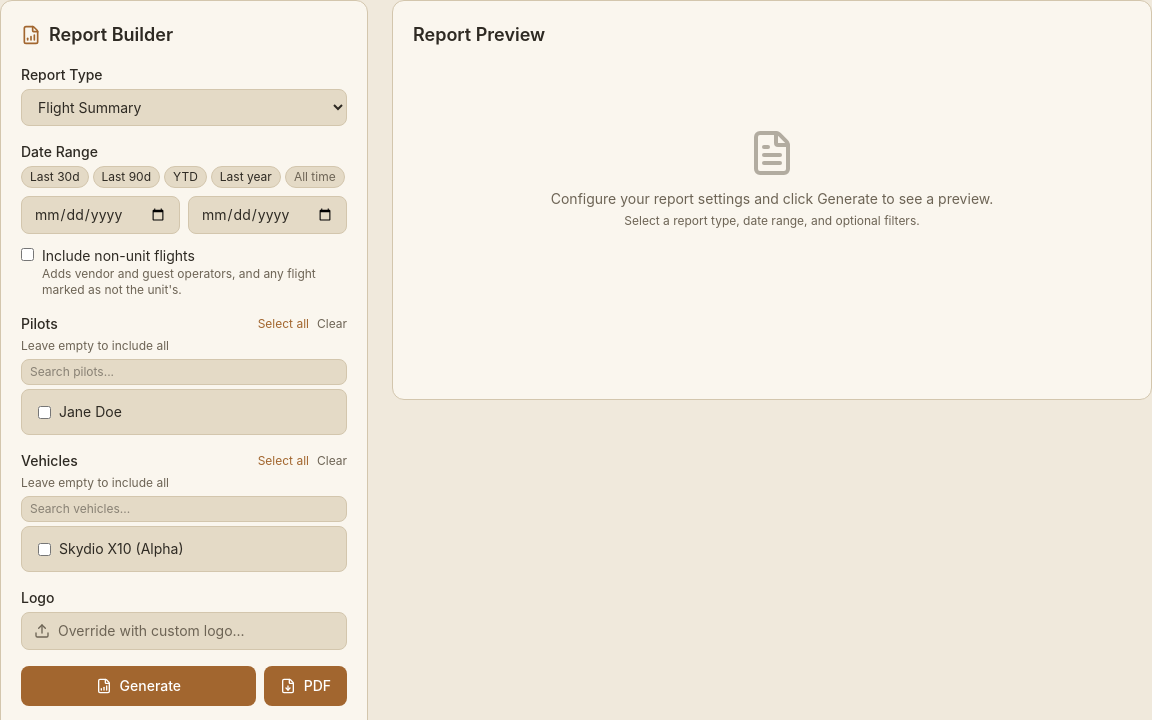
Test case: ReportsPage › shows the period an annual report states when no dates were chosen
This screenshot has width=1152, height=720.
Expected: the heading "Report Builder" is shown, [21, 24, 173, 45]
Select "Annual Unit Report" in the dropdown labelled "Report Type": (184, 108) [21, 89, 347, 126]
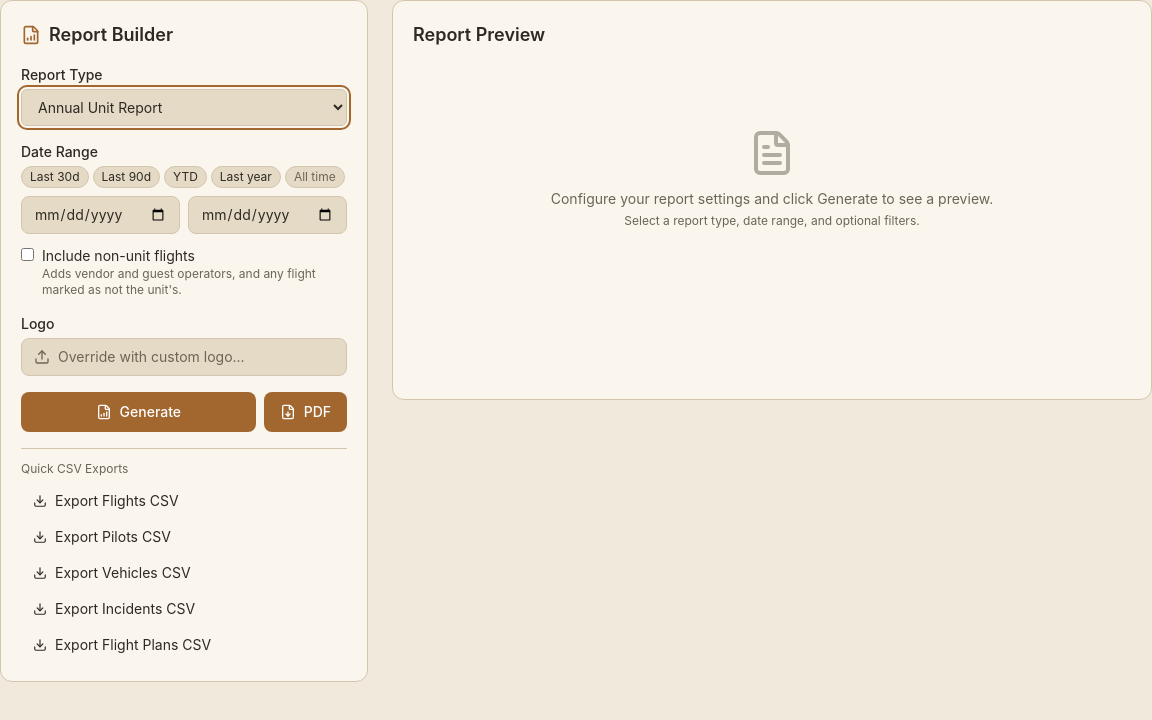
Click the button "Generate": click(138, 412) [21, 392, 256, 432]
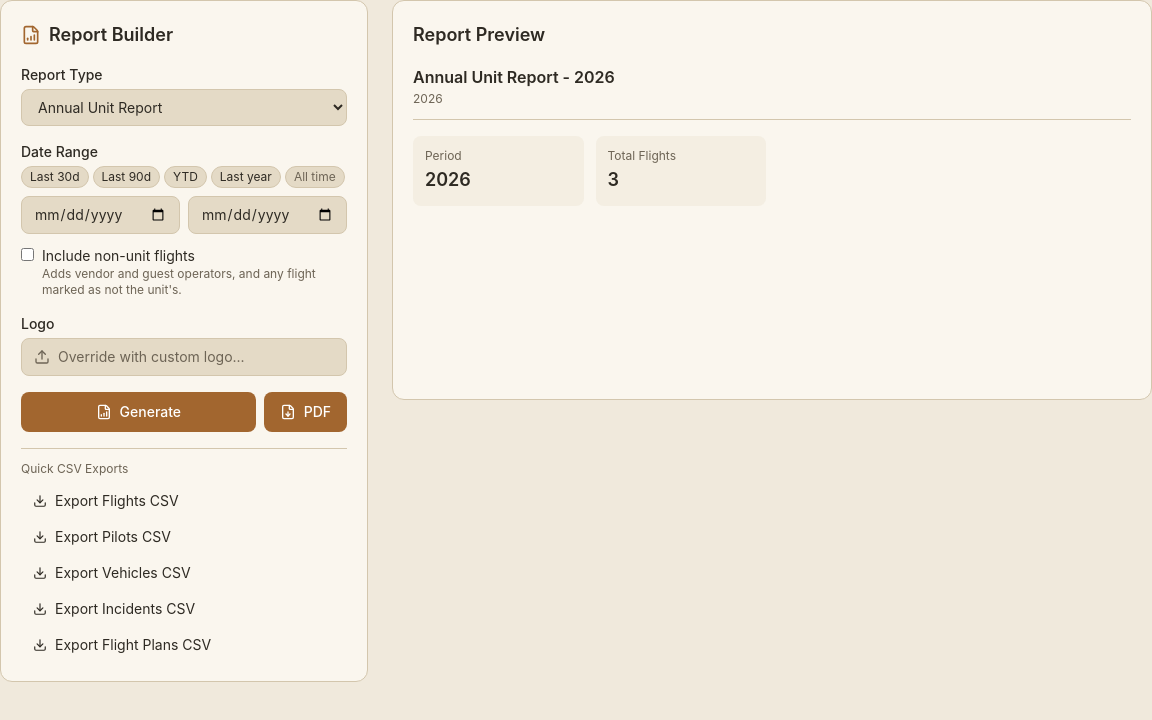
Now the heading "Annual Unit Report - 2026" is shown, box [413, 67, 615, 87]
Now the text "2026" below "Annual Unit Report - 2026" is shown, box [413, 91, 443, 106]
